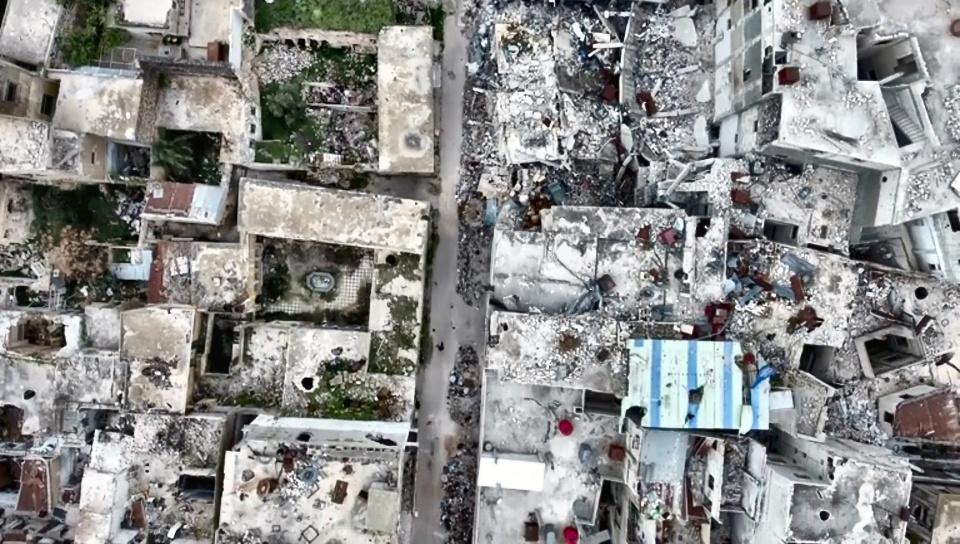kapali: (428, 0, 494, 328)
